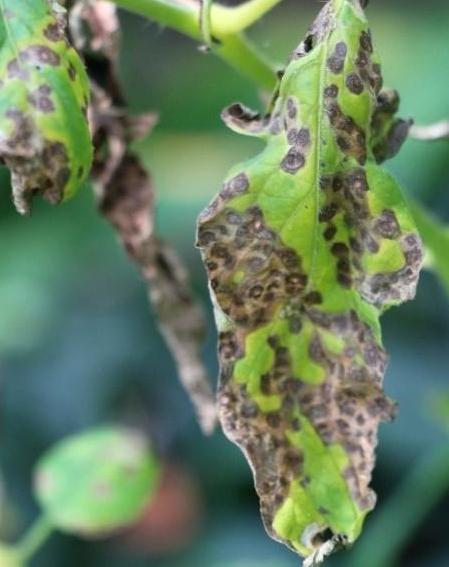Tomato leaf bacterial spot: (180, 0, 423, 567), (0, 0, 111, 220)
